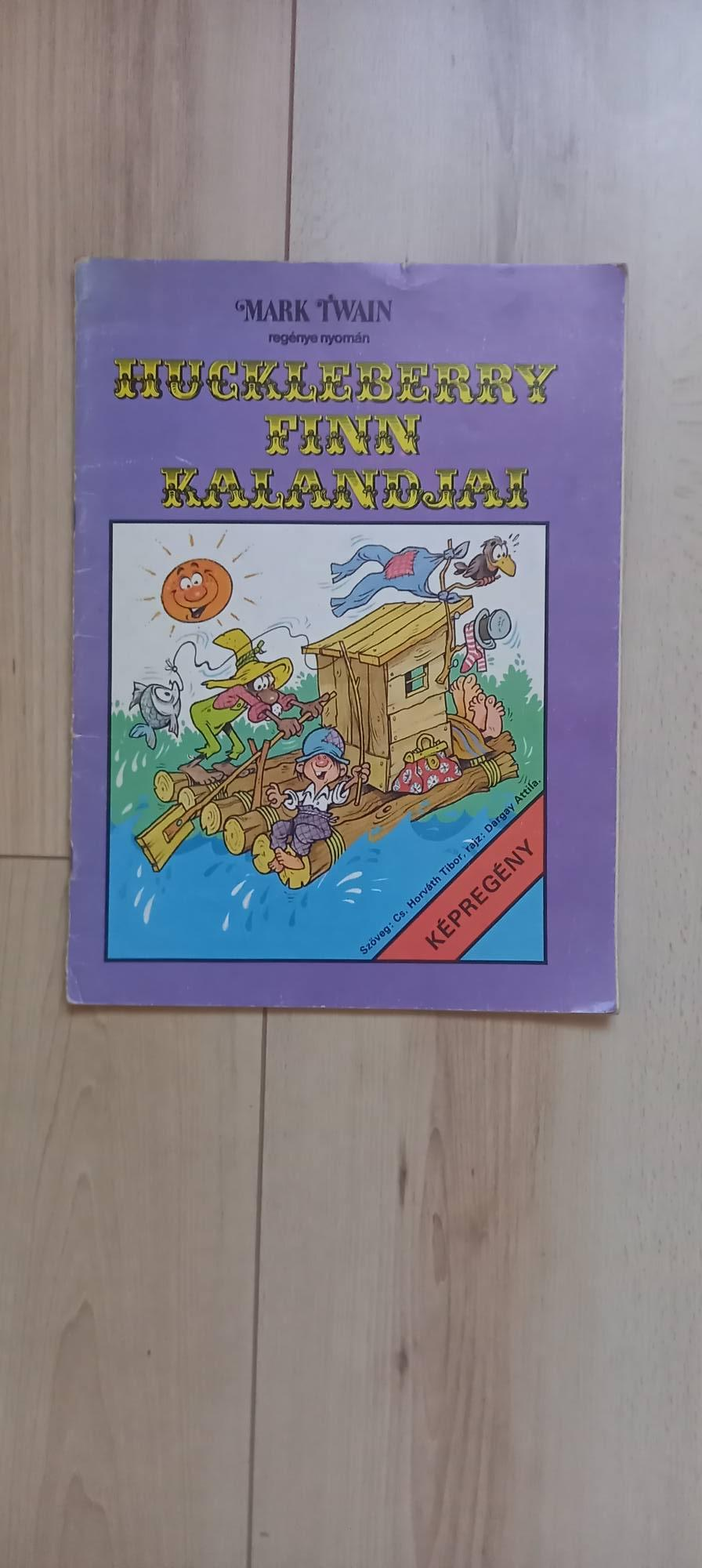comic: (68, 259, 624, 1012)
